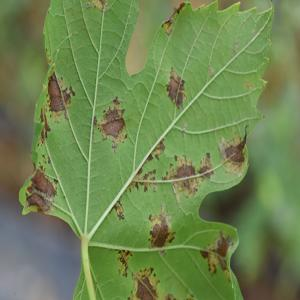Folha: (17, 0, 273, 298)
Fungo: (112, 124, 248, 220), (36, 69, 75, 147), (96, 95, 128, 154), (200, 230, 233, 283), (162, 154, 199, 200), (218, 123, 248, 174), (25, 167, 58, 213), (147, 202, 176, 254), (47, 69, 75, 121), (130, 266, 160, 300), (165, 66, 187, 109), (161, 1, 186, 36), (47, 72, 65, 112), (36, 104, 50, 147), (144, 136, 165, 163), (197, 152, 214, 180), (138, 168, 156, 192), (117, 249, 132, 277), (126, 167, 142, 193), (113, 197, 124, 220), (86, 0, 107, 12), (162, 18, 175, 36), (181, 121, 187, 138), (243, 80, 253, 90), (208, 64, 214, 78), (233, 40, 238, 56)
